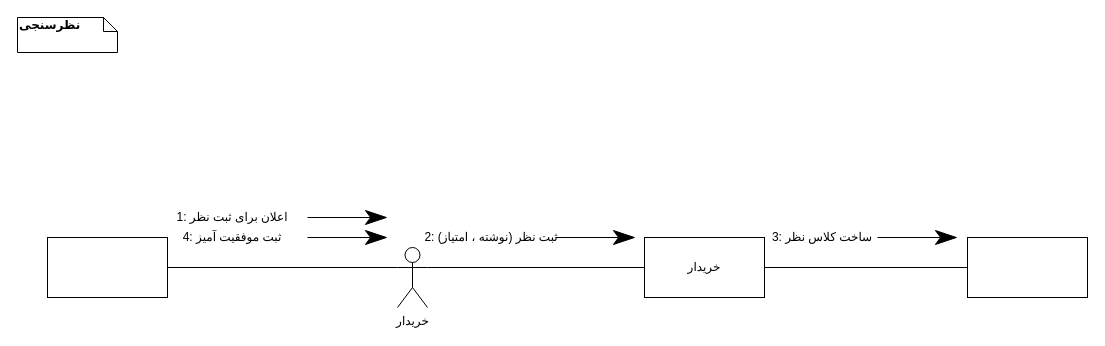
This 1105x346 diagram has some shape labels left out. Each missing label, with the centre of its shape:
"سیستم" belongs at (x=107, y=267).
"نظر" belongs at (x=1027, y=267).
